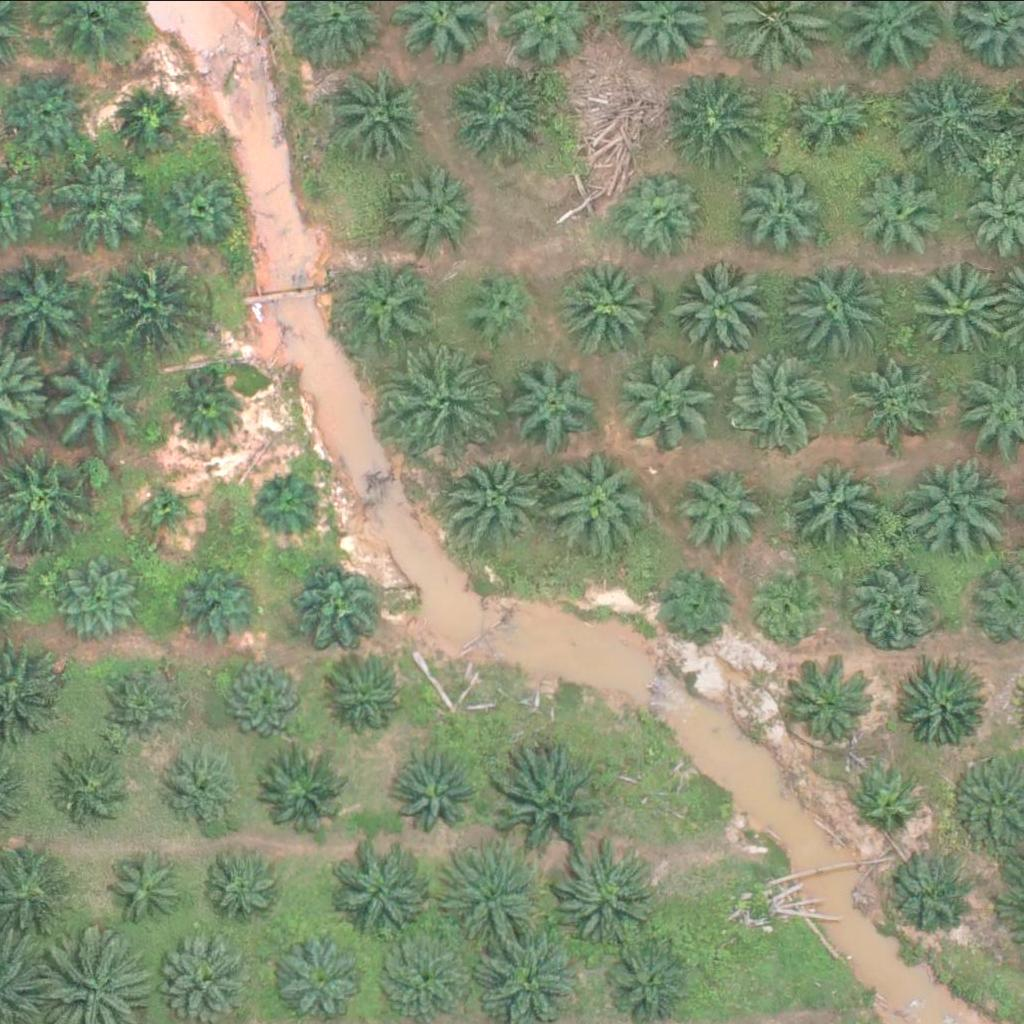Kelapa_Sawit: (389, 344, 503, 457), (894, 60, 1007, 173), (494, 746, 607, 859), (39, 336, 152, 448), (91, 245, 204, 357), (431, 844, 544, 956), (337, 252, 438, 352), (60, 157, 161, 257), (329, 66, 430, 166), (917, 252, 1018, 352), (450, 65, 551, 165), (731, 352, 832, 452), (672, 460, 773, 560), (555, 850, 656, 950), (334, 839, 434, 939), (792, 454, 892, 554), (908, 451, 1008, 551), (669, 70, 769, 170), (558, 256, 658, 356), (671, 256, 771, 356), (786, 257, 886, 357), (616, 348, 716, 448), (446, 444, 546, 544), (552, 453, 652, 553), (201, 846, 290, 934), (377, 932, 466, 1020), (55, 740, 143, 828), (61, 553, 149, 641), (300, 556, 388, 644), (105, 73, 193, 161), (861, 173, 949, 261), (862, 350, 950, 438), (749, 562, 837, 650), (887, 849, 975, 937), (782, 73, 870, 161), (392, 163, 480, 251), (327, 652, 415, 739), (220, 657, 308, 744), (99, 657, 187, 744), (108, 850, 196, 937), (159, 747, 247, 834), (259, 751, 347, 838), (171, 931, 259, 1018), (167, 559, 255, 646), (160, 161, 248, 248), (1, 68, 89, 155), (850, 561, 938, 648), (791, 659, 879, 746), (896, 663, 984, 750), (736, 167, 824, 254), (613, 170, 701, 257), (513, 360, 601, 447), (650, 561, 738, 648), (396, 746, 484, 833), (853, 759, 929, 834), (168, 371, 244, 446), (462, 268, 538, 343), (251, 465, 326, 540), (140, 476, 203, 539)
